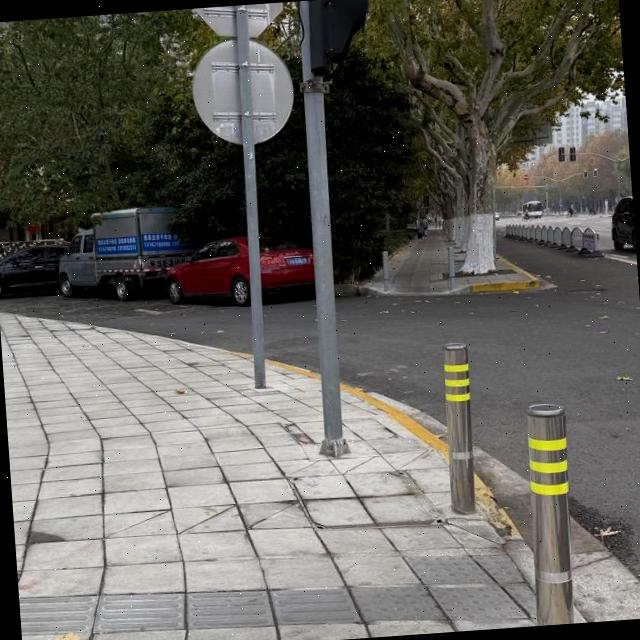curb: (342, 385, 448, 462), (474, 476, 536, 595), (497, 255, 542, 286), (267, 359, 318, 379), (469, 278, 539, 292), (335, 283, 384, 297), (437, 285, 470, 294), (574, 606, 586, 622)
